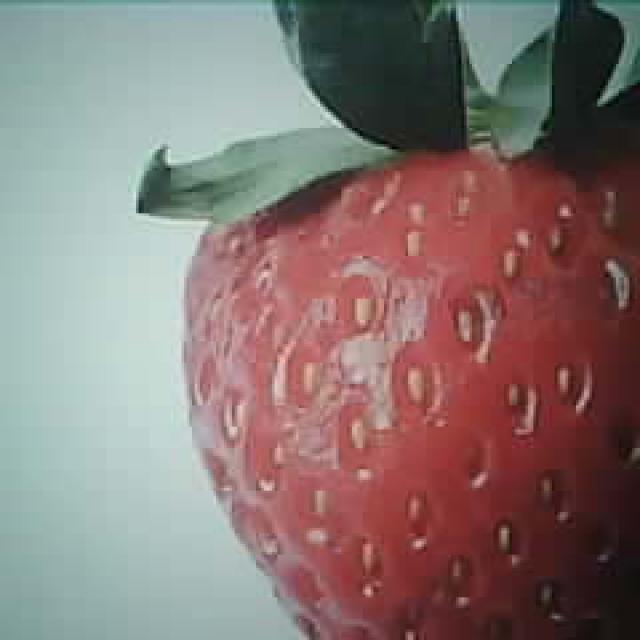strawberry: (180, 139, 640, 640)
